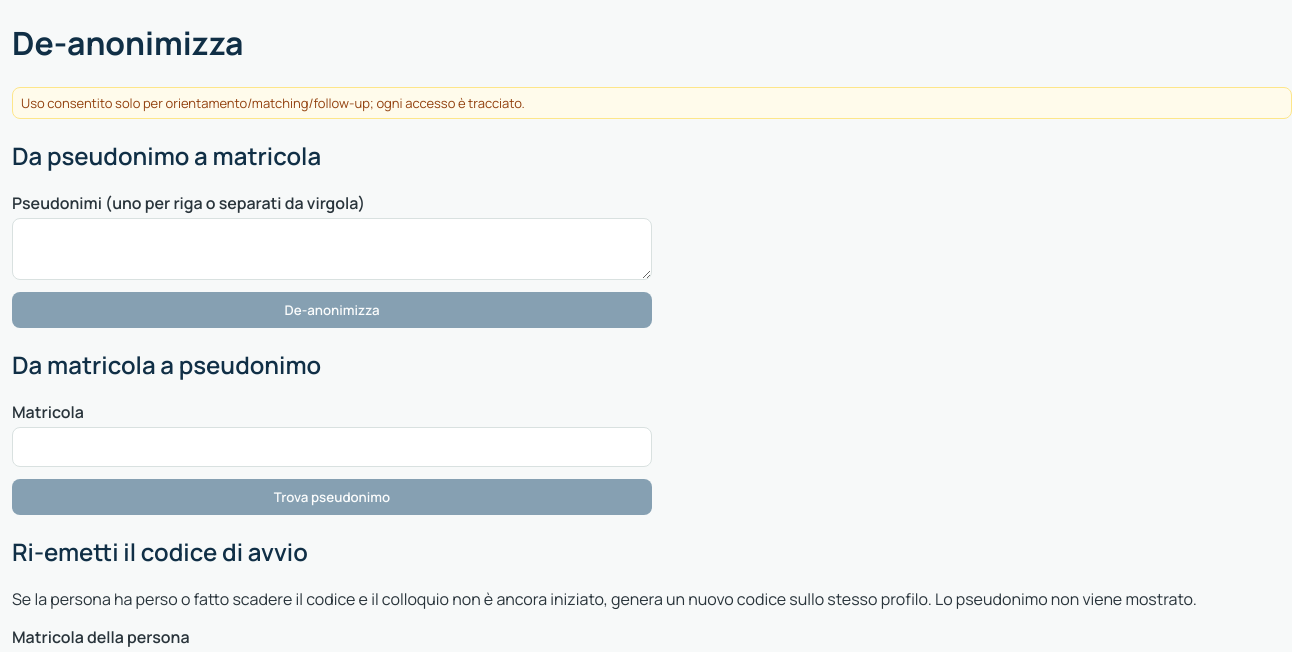
Scenario: an unknown matricola shows a not-found message
Type "MAT-999" into the field labelled "Matricola".
click(332, 447); type("MAT-999")  # box [12, 427, 652, 467]
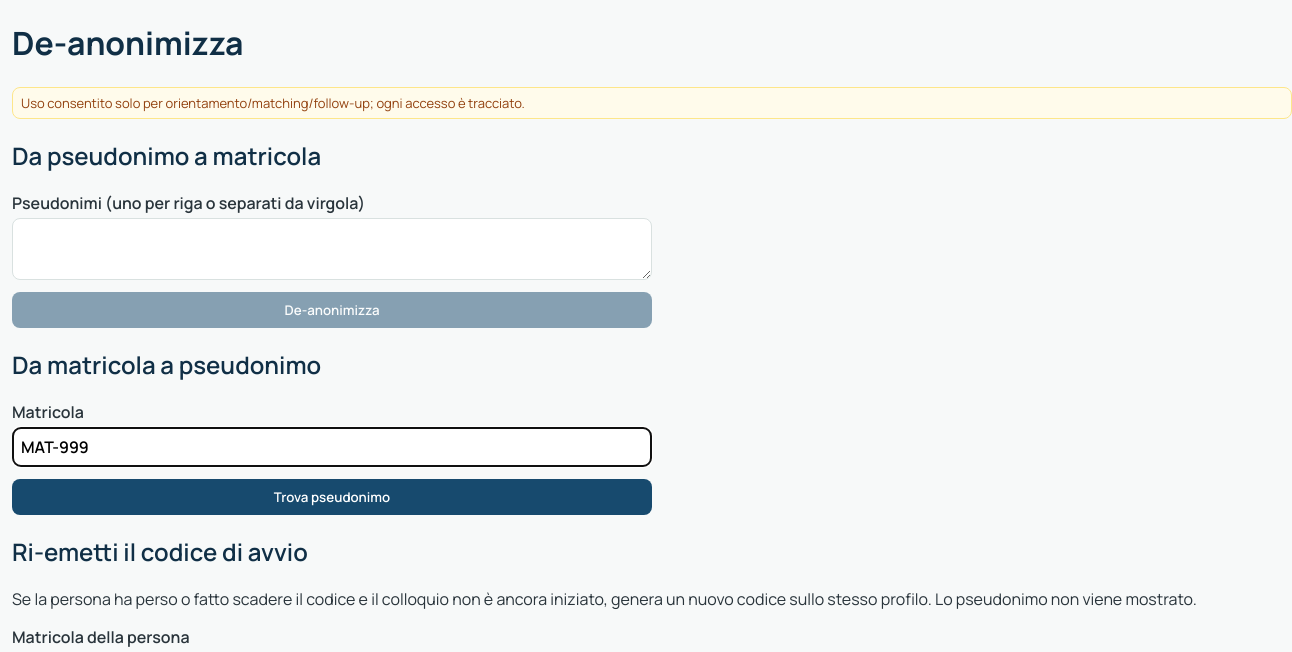
Click the button "Trova pseudonimo".
click(332, 497)  # box [12, 479, 652, 515]
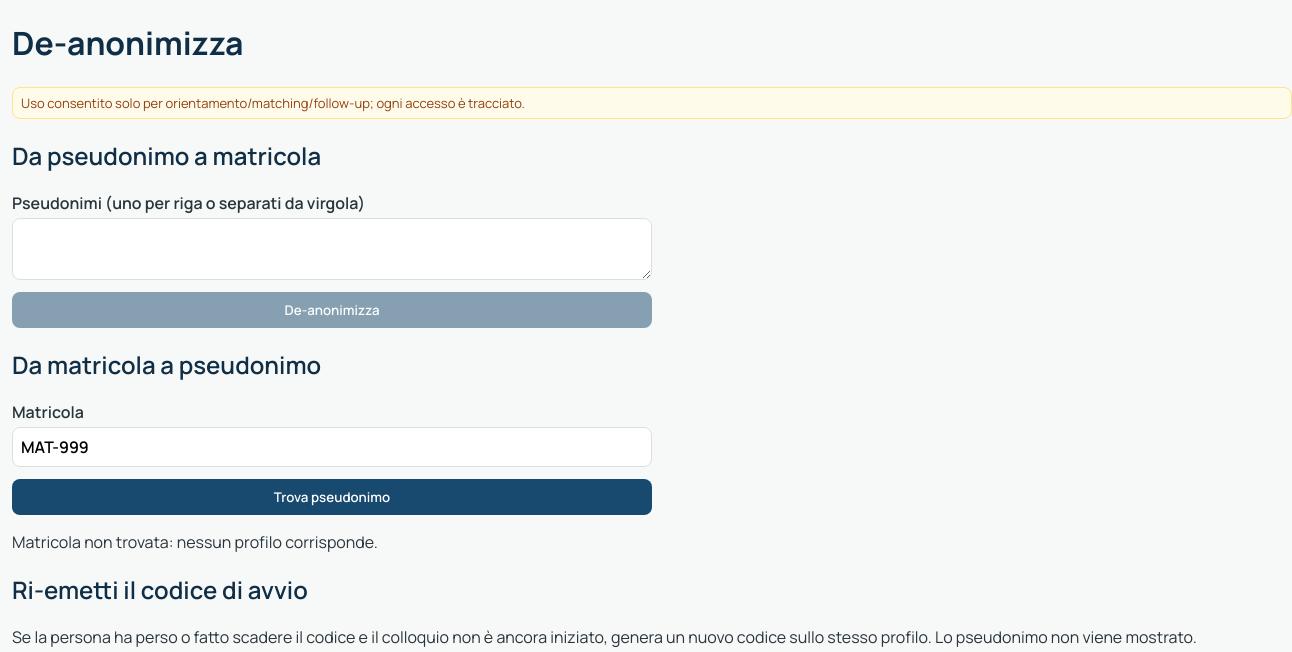
Expected: the text "Matricola non trovata: nessun profilo corrisponde." is shown, [12, 531, 378, 553]
